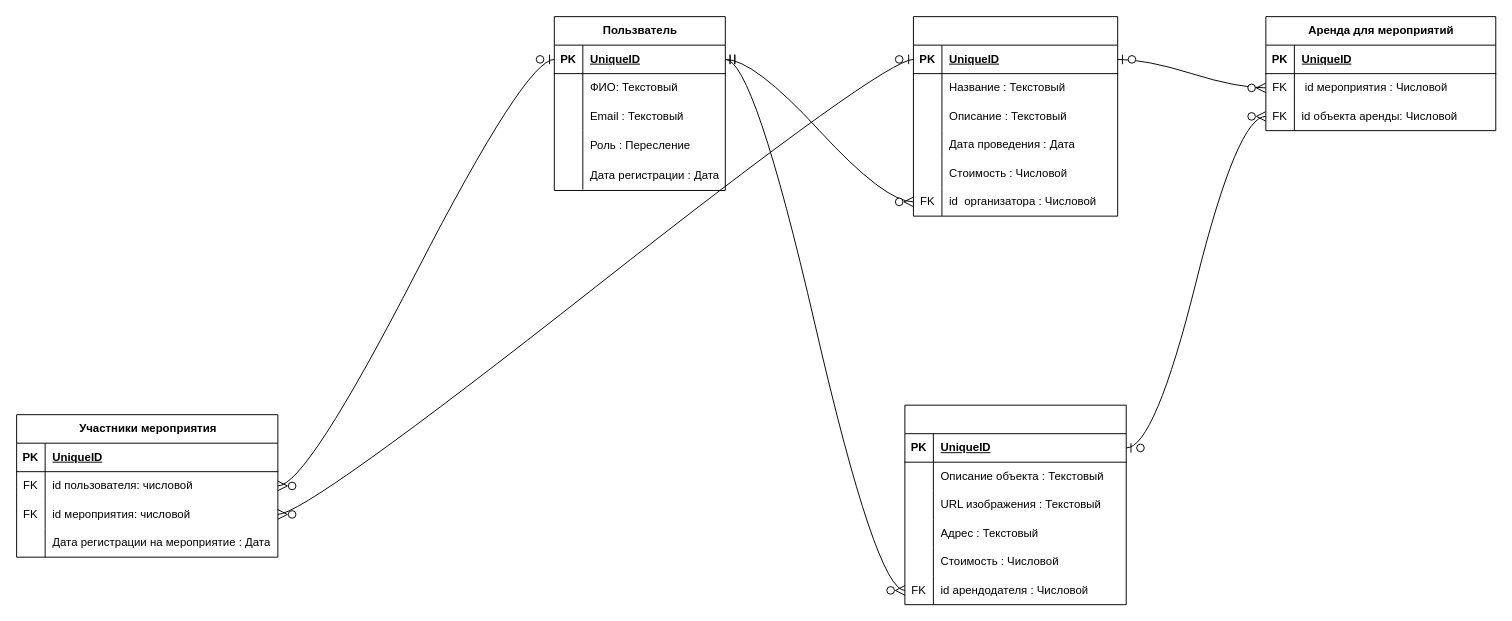
The diagram is 1512 pixels wide and 621 high, and some of its shapes have lost their labels. Each missing label, with the box of its shape:
Аренда: (904, 404, 1126, 605)
Мероприятие: (912, 16, 1118, 216)
